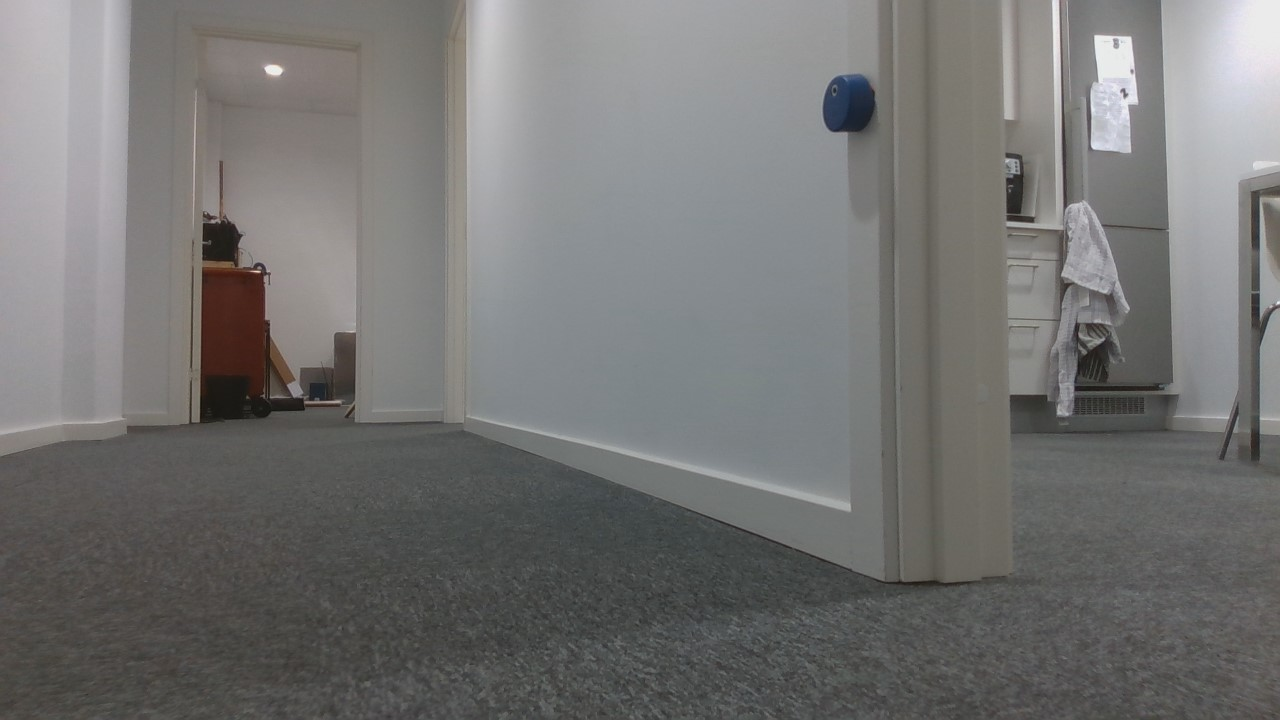alfa: (820, 73, 875, 135)
